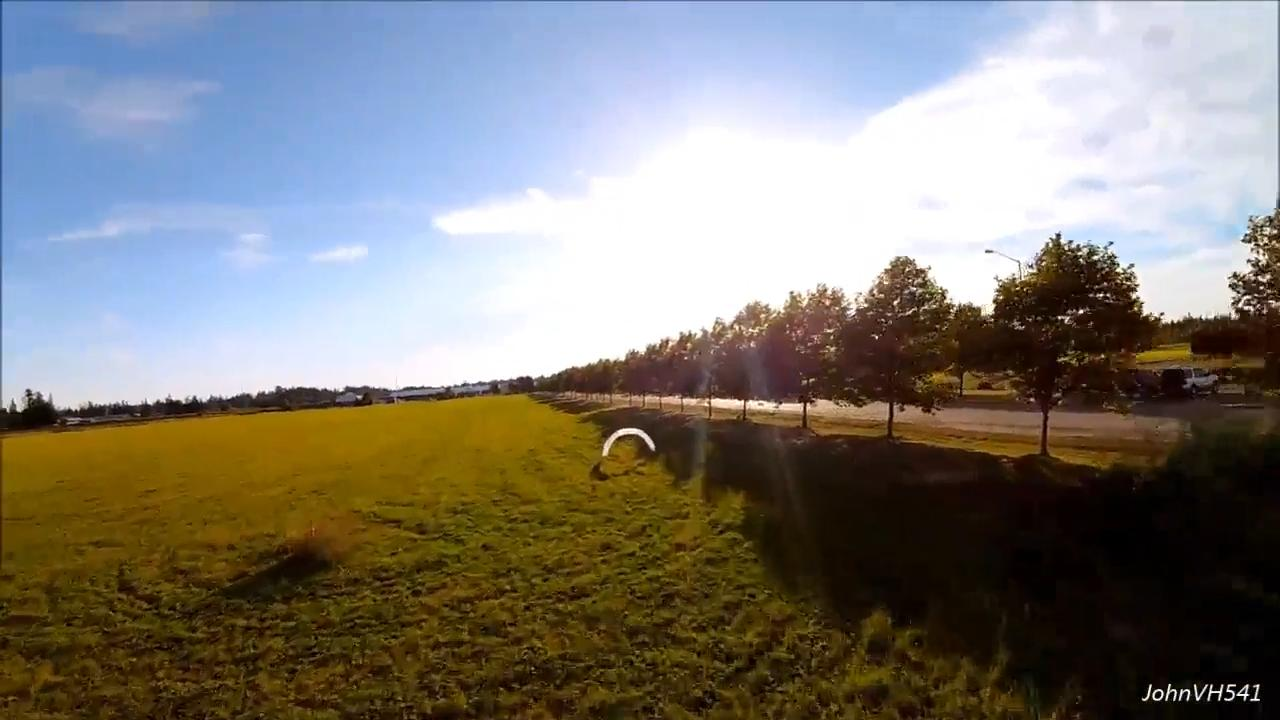gate: (602, 428, 656, 460)
